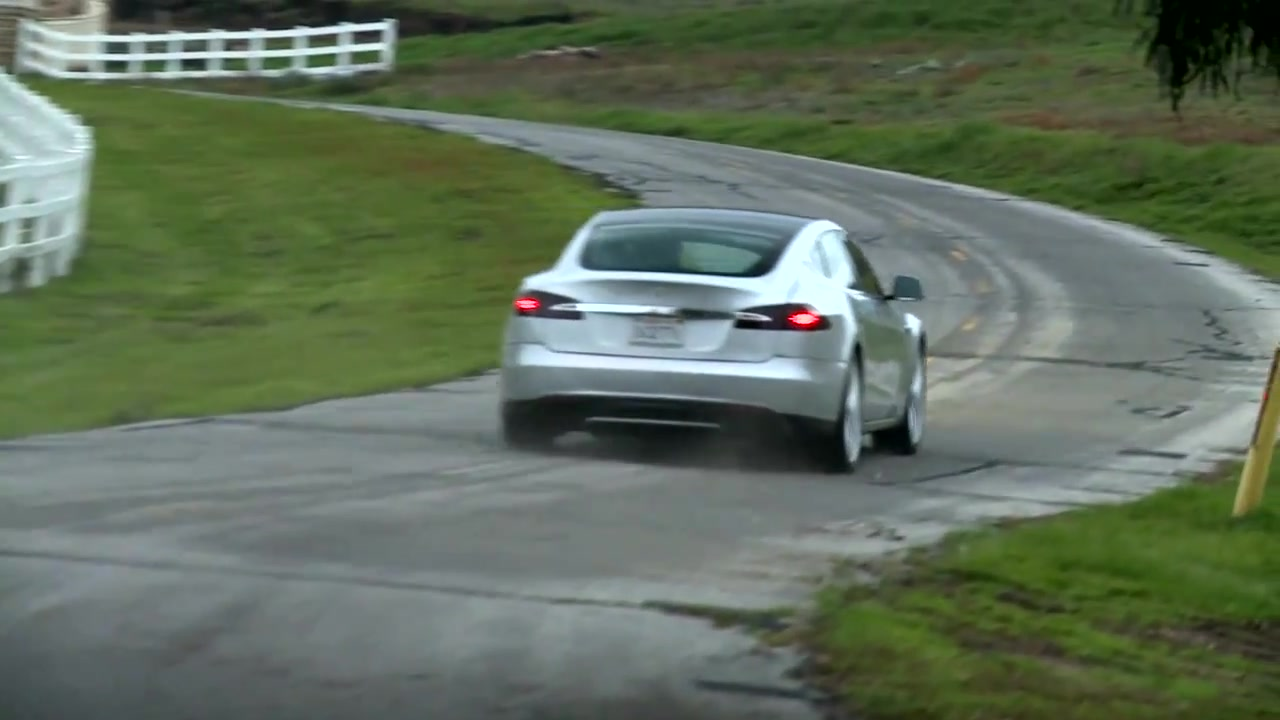car: (495, 207, 934, 473)
